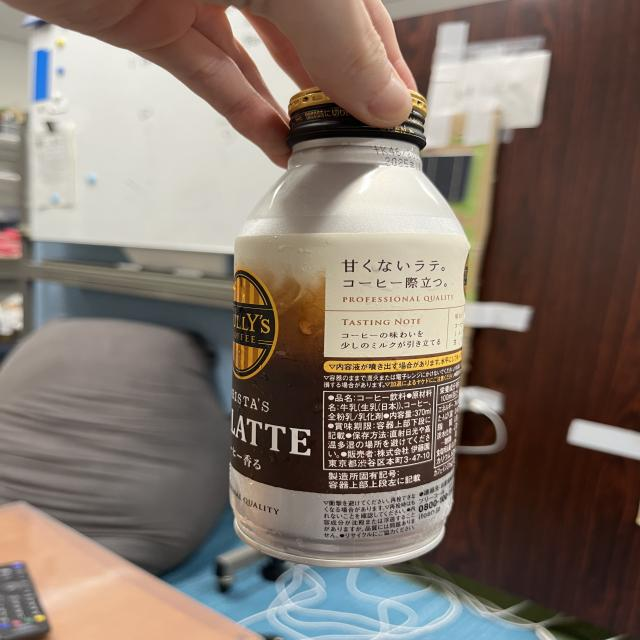coffee-latte: (228, 87, 472, 565)
